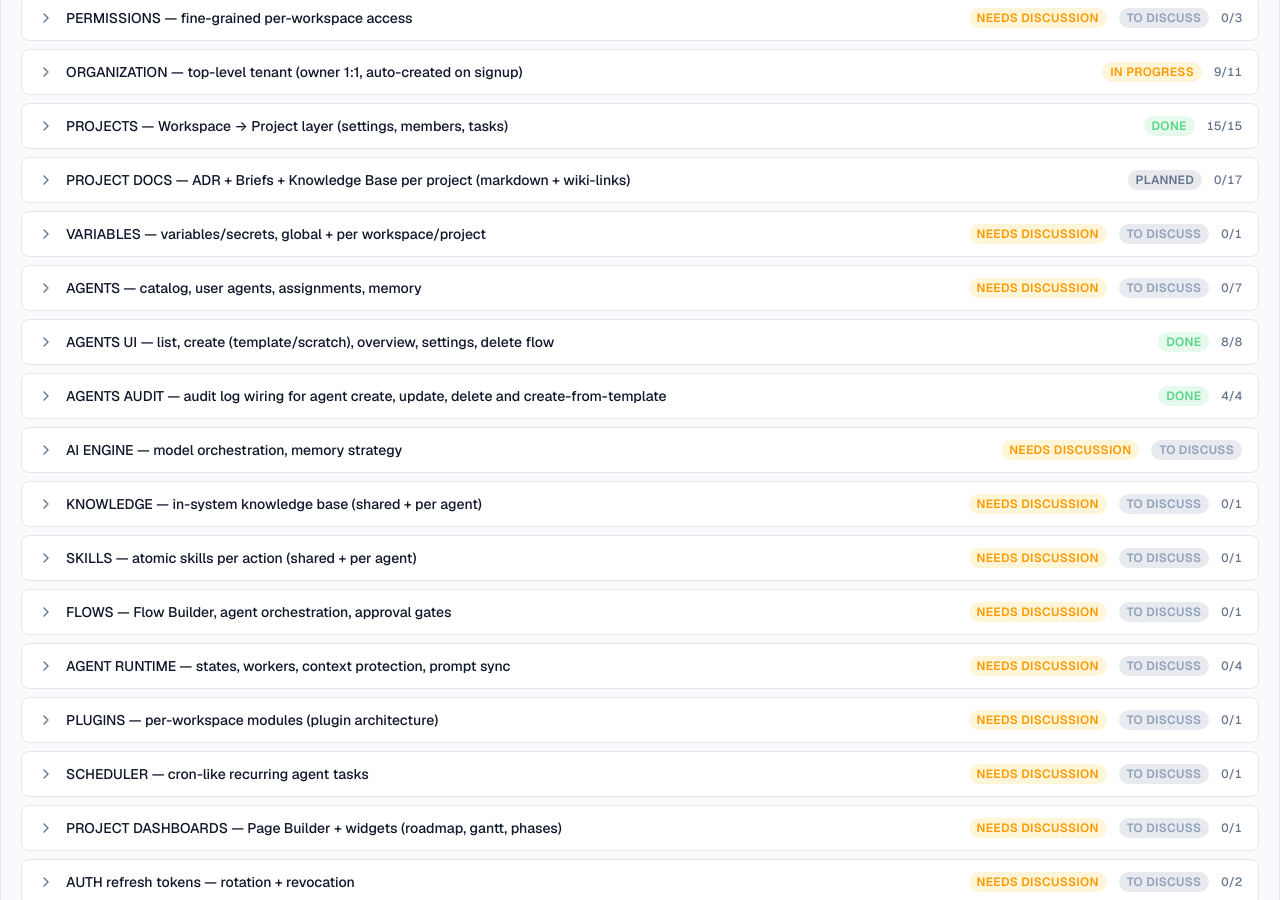
RoadmapPanel › should render the AI ENGINE milestone as tbd with a discuss-with-Szef note and no tasks
(page scrolled)
Step 1. Click the text "AI ENGINE — model orchestration, memory strategy" → x=234, y=450, box x1=66 y1=441 x2=402 y2=459
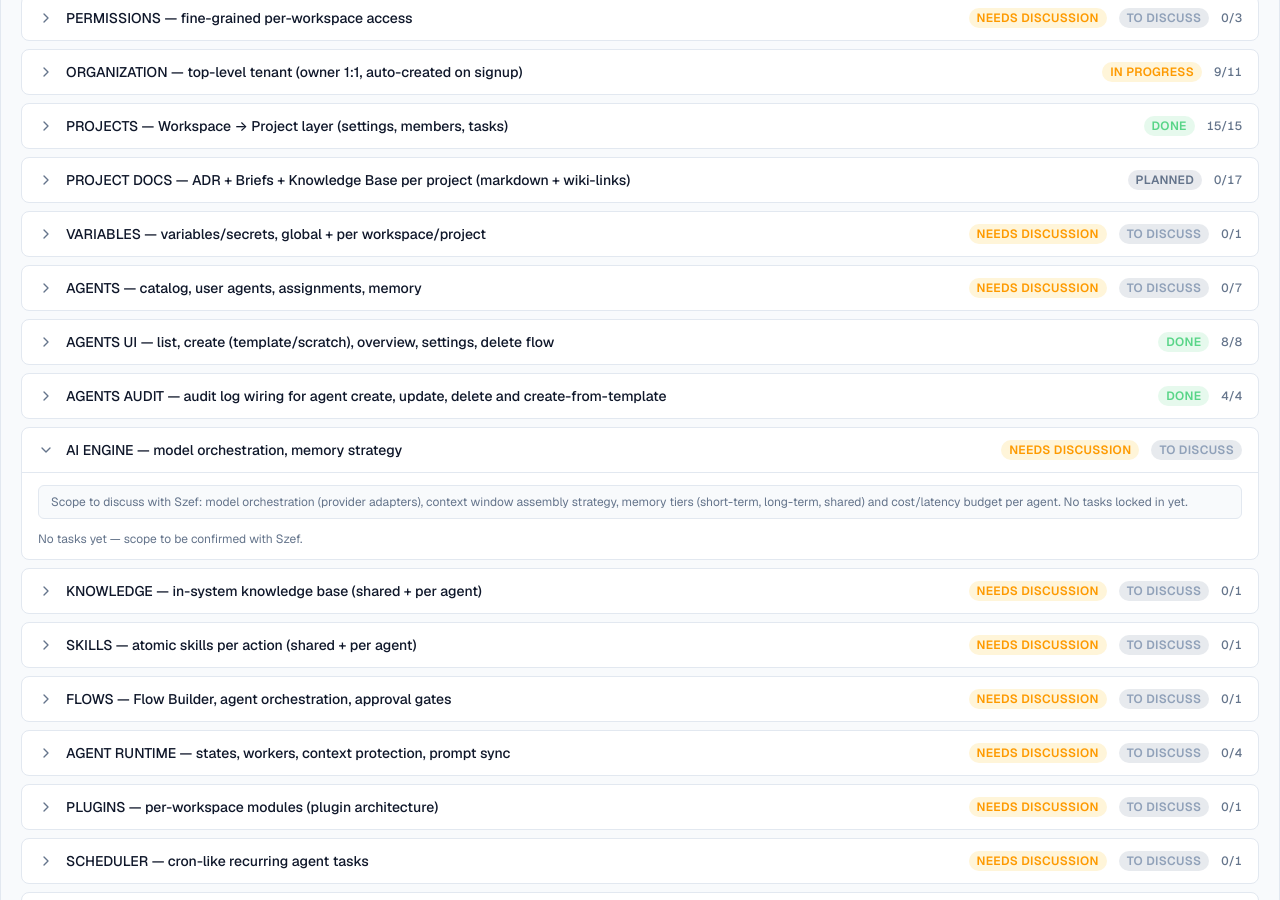
Now the text "discuss with Szef" is shown, box x1=51 y1=494 x2=1188 y2=510
